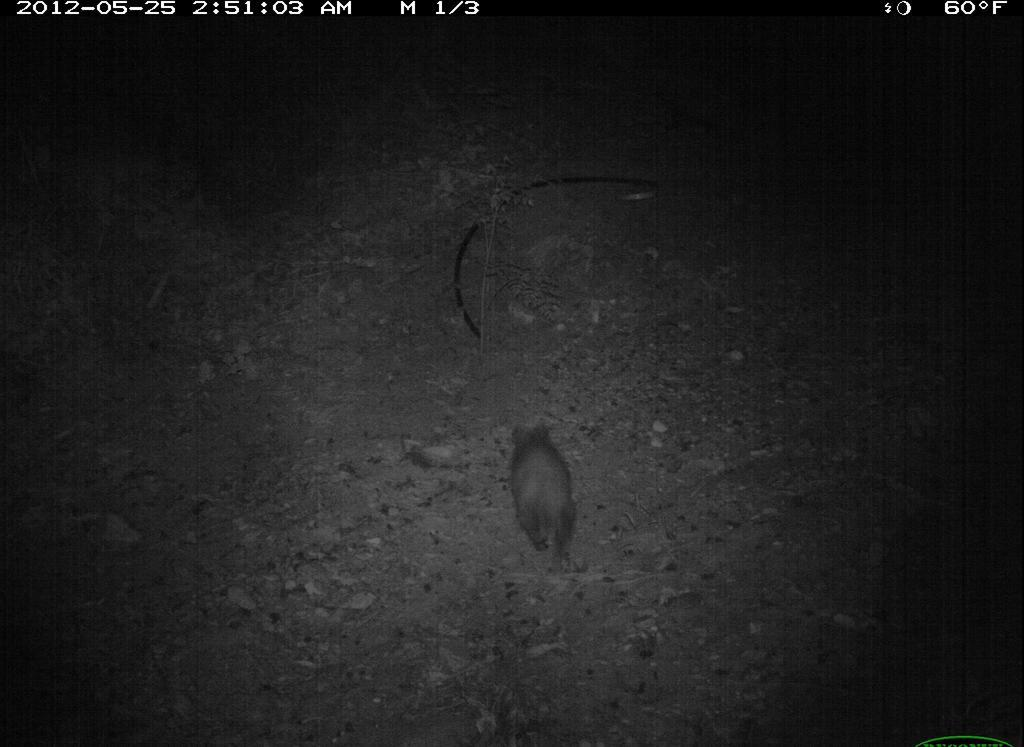opossum: (493, 414, 596, 591)
